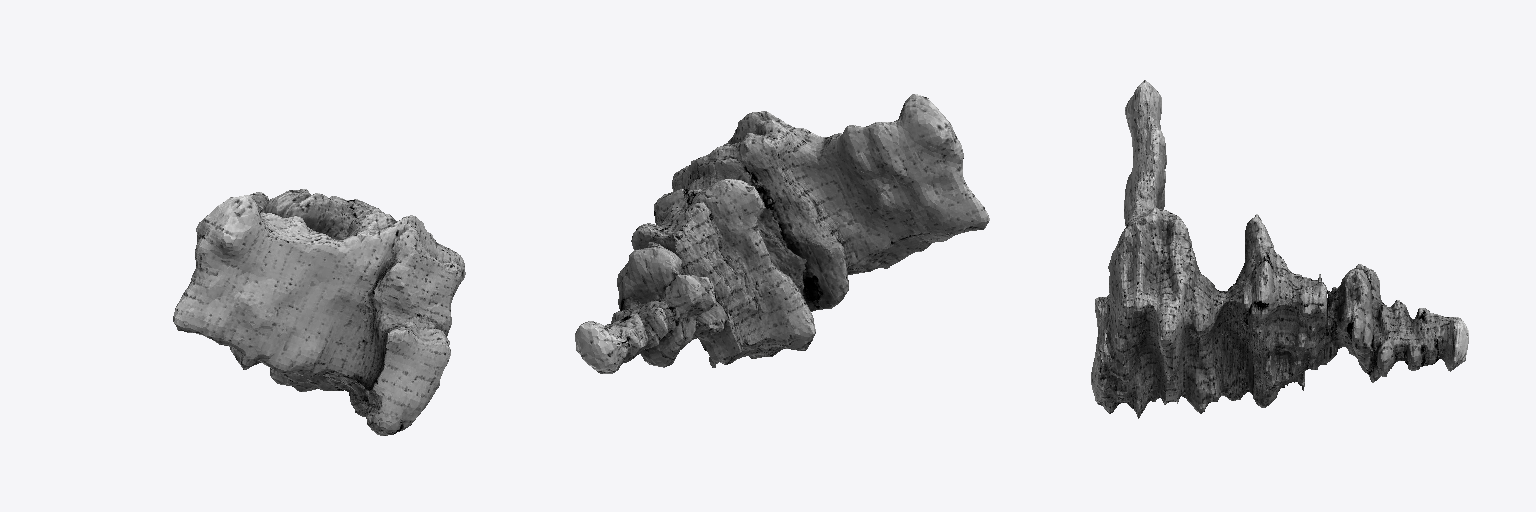
3 views of the same model, side by side, from view 1: azimuth 30°, elevation 25°; view 2: azimuth 150°, elevation 25°; view 3: azimuth 270°, elevation 25° (orthographic).
Visible parts, largest first — view 1: sister_rock_wall_based_Cube.020; view 2: sister_rock_wall_based_Cube.020; view 3: sister_rock_wall_based_Cube.020.
Boxes of the visible parts, <box> form: sister_rock_wall_based_Cube.020: <box>173,189,465,435</box>; sister_rock_wall_based_Cube.020: <box>575,94,989,373</box>; sister_rock_wall_based_Cube.020: <box>1091,80,1468,418</box>.
Size of the model in its own units: 1.98 by 1.63 by 2.13.
Materials: 1 (1 with a texture image).